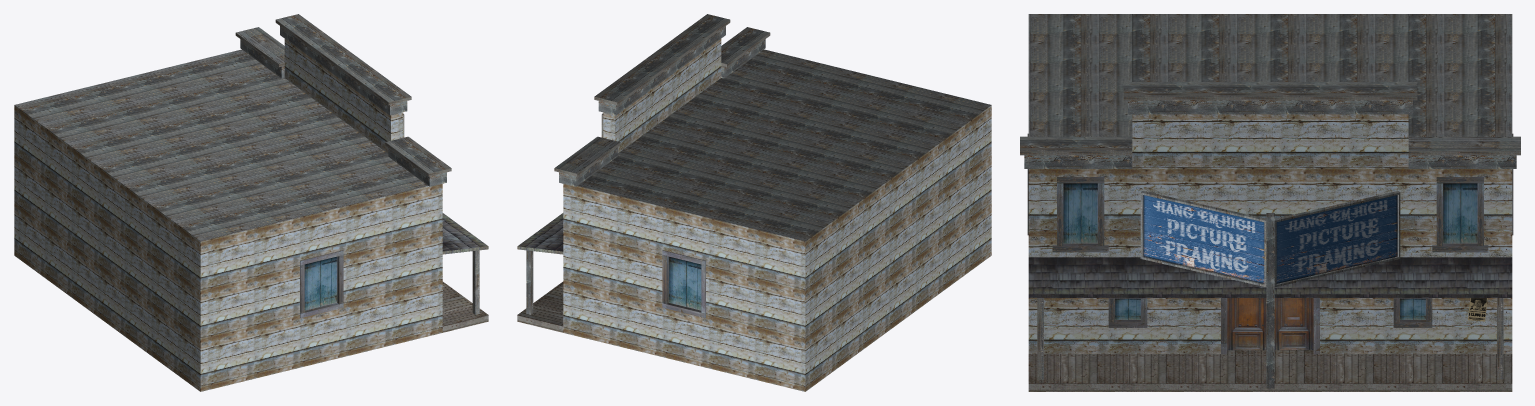
File: StaticMesh7.fbx
The picture shows the model from 3 angles, left to right: view 1: azimuth 30°, elevation 25°; view 2: azimuth 150°, elevation 25°; view 3: azimuth 270°, elevation 25°; orthographic projection. The views are drawn at different scales.
Visible parts, largest first — view 1: StaticMesh7; view 2: StaticMesh7; view 3: StaticMesh7.
Boxes of the visible parts, bbox=[...] form: StaticMesh7: bbox=[14, 14, 488, 391]; StaticMesh7: bbox=[517, 14, 991, 391]; StaticMesh7: bbox=[1020, 14, 1520, 391].
Bounding box in the file's own units: 82000 × 55200 × 92800.
